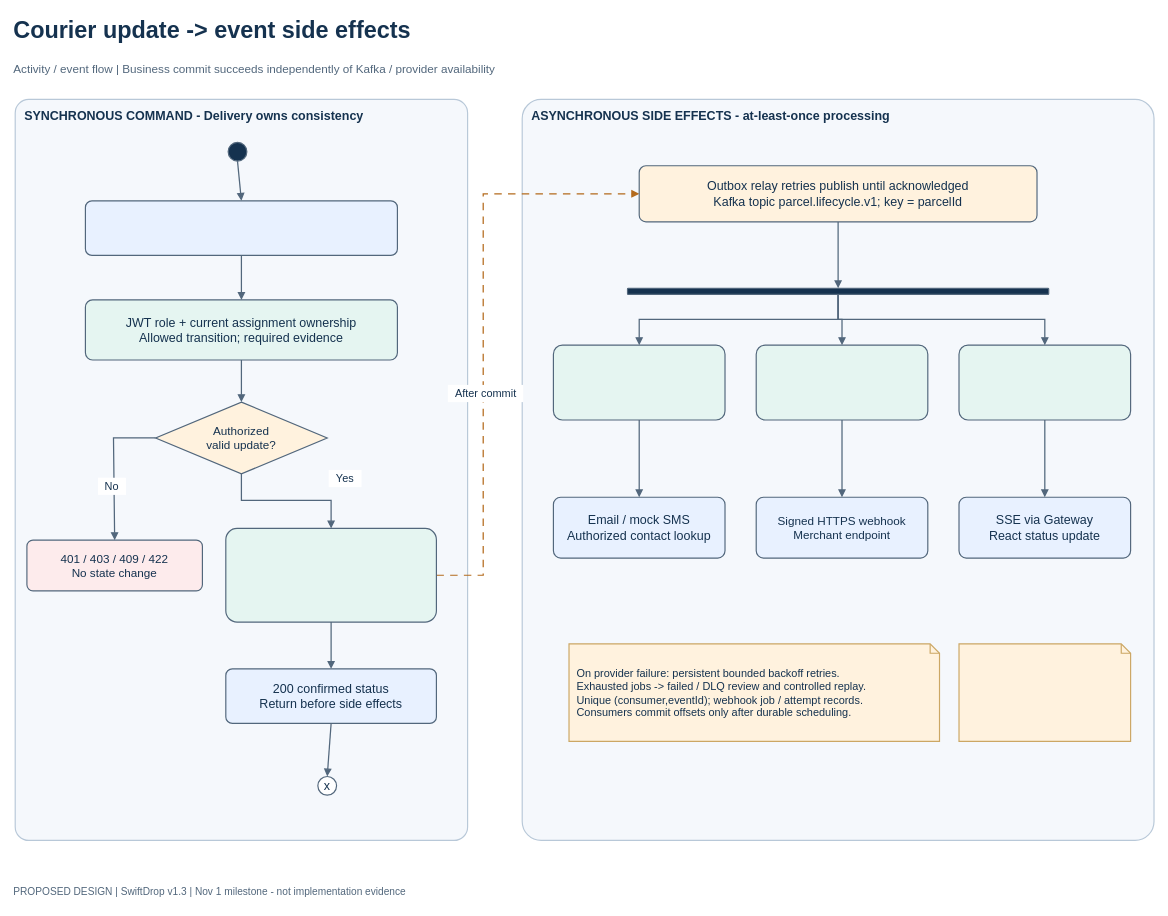
Image size: 1168x916. Some labels were removed from this diagram. The centre of each missing label's shape, as x and y in pixels:
Atomic DB transaction Current status + version History + outbox event: the point at 331,575
Courier PATCH status + expected version Proof / recipient note or failure reason: the point at 241,228
Notifications Consumer group Inbox + persistent job: the point at 638,382
SSE reconnect: Canonical REST GET. Drop stale versions. No JWT in stream URL.: the point at 1044,692
Tracking fan-out Delivery consumer Replica broadcast: the point at 1044,382
Webhooks Consumer group Inbox + persistent job: the point at 841,382
